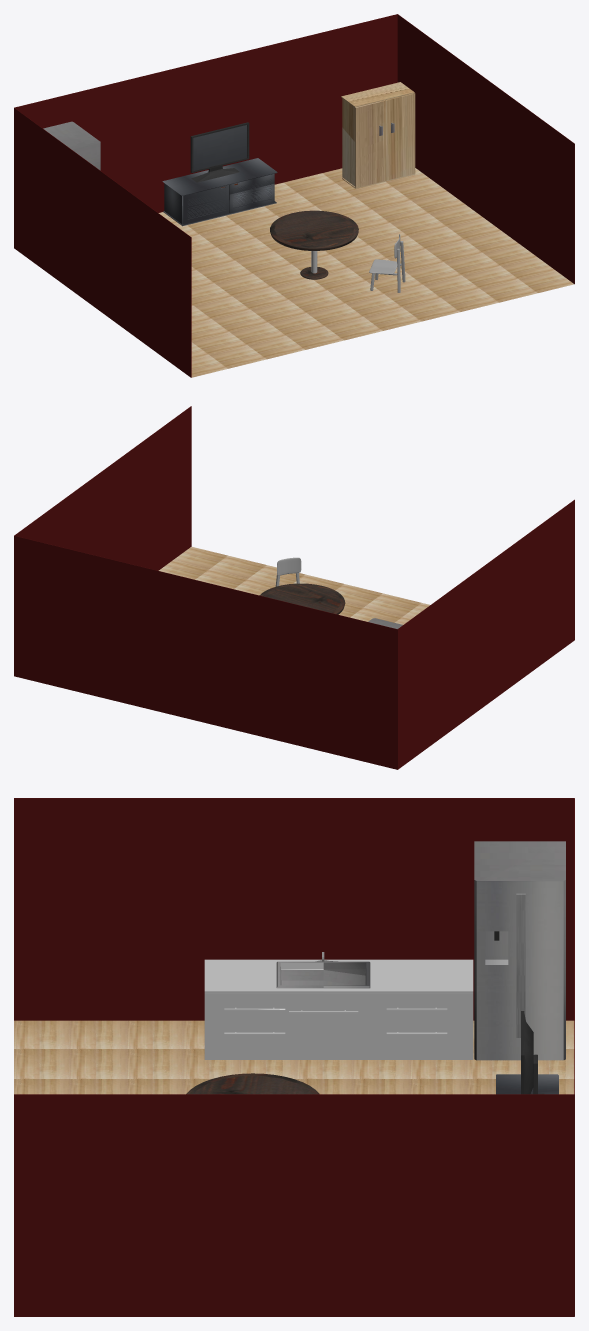
Rendered from room.fbx.
3 renders of one model, top to bottom at view 1: azimuth 30°, elevation 25°; view 2: azimuth 150°, elevation 25°; view 3: azimuth 270°, elevation 25°, orthographic. The views are drawn at different scales.
Visible parts, largest first — view 1: pPlane1, pCube3, pCube5, pCube4, _pCube4 (×2), _pasted__pCube4 (×2), pCylinder1, TV:pCube1, _pasted__pCube3, fr:Cube, _pasted__pCube1, _pCube3 (+1 smaller); view 2: pCube3, pCube5, pCube4, pPlane1, pCylinder1; view 3: pCube4, pCube5, kitchen1:Cube, pPlane1, fr:Cube, pCylinder1, _pasted__pCube3, TV:pCube1.
Boxes of the visible parts, x1=… form: pPlane1: x1=158, y1=168, x2=573, y2=377; pCube3: x1=14, y1=14, x2=397, y2=212; pCube5: x1=14, y1=107, x2=191, y2=377; pCube4: x1=397, y1=14, x2=574, y2=284; _pCube4 (×2): x1=183, y1=100, x2=385, y2=224; _pasted__pCube4 (×2): x1=229, y1=93, x2=415, y2=213; pCylinder1: x1=270, y1=210, x2=358, y2=250; TV:pCube1: x1=190, y1=122, x2=249, y2=172; _pasted__pCube3: x1=162, y1=158, x2=277, y2=195; fr:Cube: x1=43, y1=121, x2=100, y2=170; _pasted__pCube1: x1=342, y1=98, x2=359, y2=186; _pCube3: x1=341, y1=82, x2=414, y2=107; pCube3: x1=14, y1=535, x2=397, y2=769; pCube5: x1=397, y1=499, x2=574, y2=769; pCube4: x1=14, y1=406, x2=191, y2=570; pPlane1: x1=158, y1=546, x2=429, y2=624; pCylinder1: x1=259, y1=583, x2=345, y2=614; pCube4: x1=14, y1=1094, x2=574, y2=1316; pCube5: x1=14, y1=798, x2=574, y2=1020; kitchen1:Cube: x1=204, y1=952, x2=473, y2=1059; pPlane1: x1=14, y1=1020, x2=574, y2=1094; fr:Cube: x1=474, y1=841, x2=565, y2=1060; pCylinder1: x1=186, y1=1073, x2=319, y2=1094; _pasted__pCube3: x1=496, y1=1074, x2=558, y2=1094; TV:pCube1: x1=521, y1=1011, x2=533, y2=1094.
Bounding box in the file's own units: 1001 × 352 × 800.
